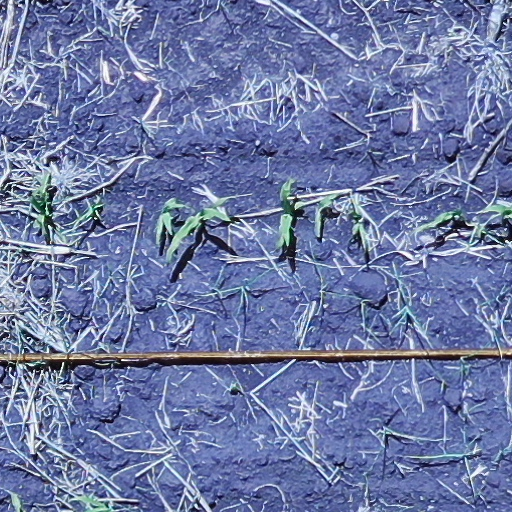planta: (165, 198, 232, 262), (155, 197, 188, 245), (276, 181, 297, 247), (31, 173, 53, 236), (414, 210, 461, 233), (315, 194, 337, 238), (76, 203, 103, 227), (352, 211, 366, 240)
